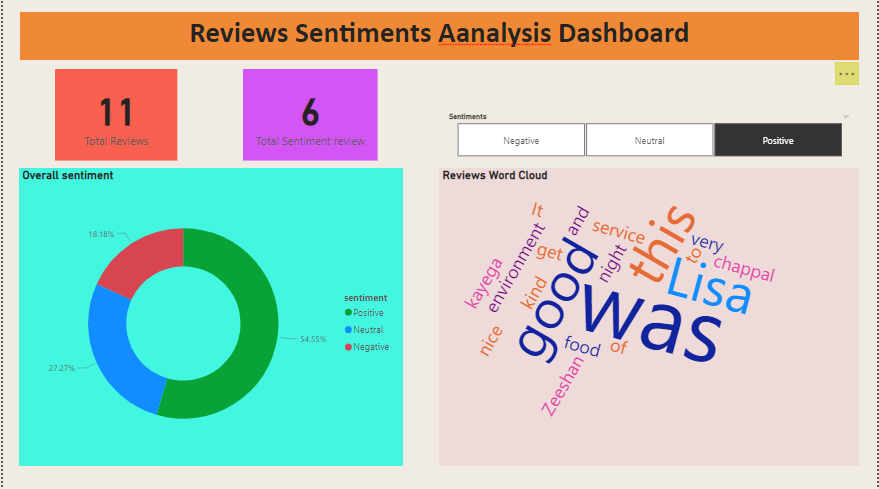

The dashboard page shown, as its layout file describes it:
{"tool":"powerbi","page":{"name":"Page 1","canvas":[1280,720],"ordinal":0},"visuals":[{"type":"donutChart","title":"Overall sentiment","fields":{"Category":["sentiments.sentiment"],"Y":["sentiments.review"]},"box":[23.2,199,562.1,482.5],"z":0},{"type":"WordCloud1447959067750","title":"Reviews Word Cloud ","fields":{"Category":["sentiments.review"],"Values":["sentiments.sentiment"]},"box":[638.3,245.4,615.1,436.1],"z":1000},{"type":"slicer","fields":{"Values":["sentiments.sentiment"]},"box":[640,159.2,611.8,76.3],"z":2000},{"type":"textbox","box":[23.2,16.6,1230.3,73],"z":3000}]}

Visuals, with their boxes in screenshot pixels (x1, y1, x2, y2), scaled from the page's 1280x720 canvas onto the 879x489 screenshot:
"Overall sentiment" donutChart: (x1=16, y1=135, x2=402, y2=463)
"Reviews Word Cloud " WordCloud1447959067750: (x1=438, y1=167, x2=861, y2=463)
slicer - sentiments.sentiment: (x1=440, y1=108, x2=860, y2=160)
textbox: (x1=16, y1=11, x2=861, y2=61)
